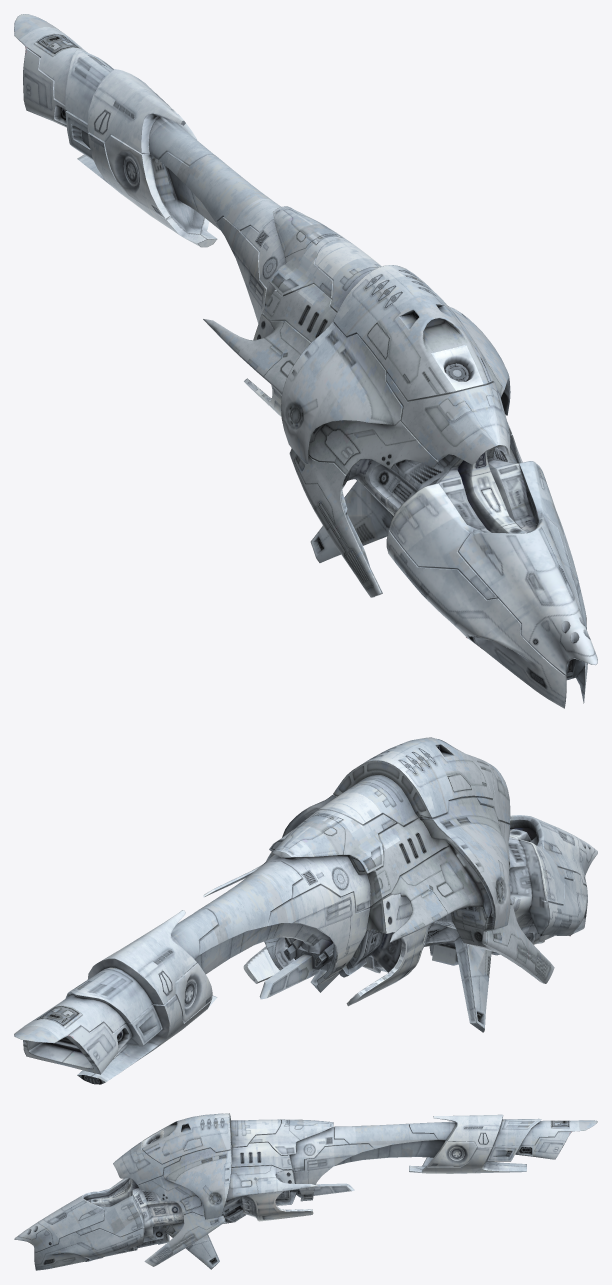
Rendered from space ship.obj.
The picture shows the model from 3 angles, top to bottom: view 1: azimuth 30°, elevation 25°; view 2: azimuth 150°, elevation 25°; view 3: azimuth 270°, elevation 25°; orthographic projection. The views are drawn at different scales.
Parts seen in each view (by area): view 1: space_ship; view 2: space_ship; view 3: space_ship.
Part boxes in pixels (<box>): space_ship: <box>14,14,597,708</box>; space_ship: <box>14,737,597,1084</box>; space_ship: <box>14,1113,597,1270</box>.
Size of the model in its own units: 0.107 by 0.1444 by 0.4986.
